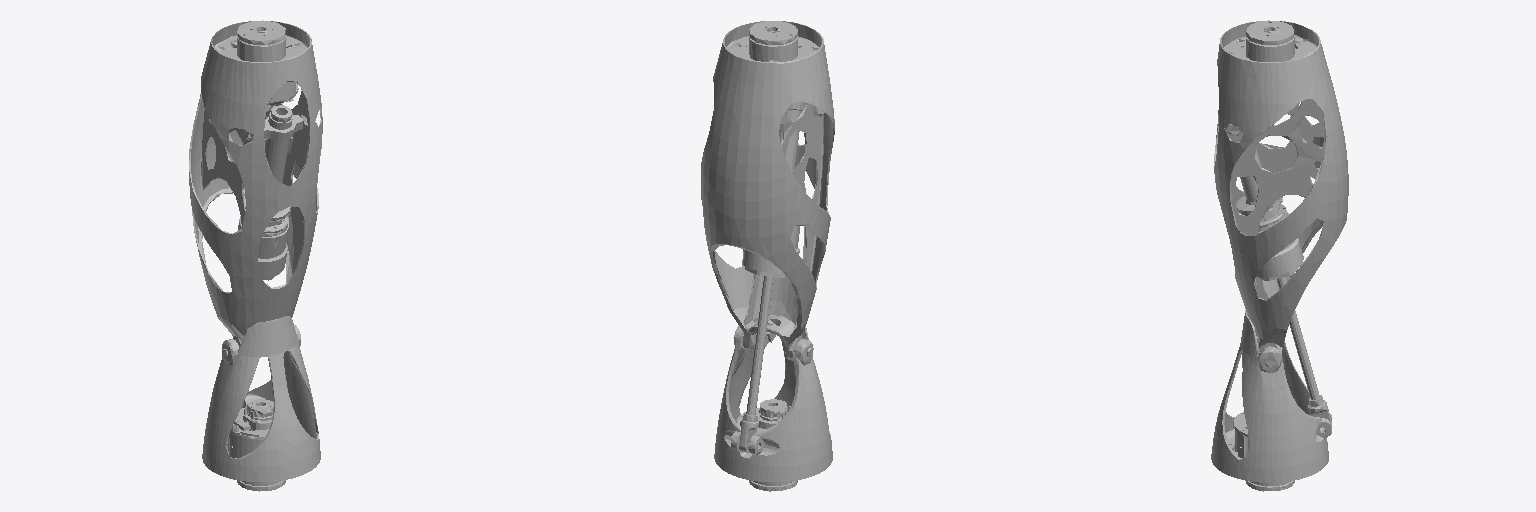
robot.urdf — ARElbow:
<robot name="ARElbow">
  <joint name="ARElbow" type="revolute">
    <origin xyz="0.0 0.001 -0.3511" rpy="-3.141592 0.0 -3.141592"/>
    <axis xyz="1.0 0.0 0.0"/>
    <parent link="ARShoulder3_Link"/>
    <child link="ARElbow_Link"/>
    <limit effort="400.0" lower="-1.832" upper="0.0" velocity="3.1415926"/>
  </joint>
  <joint name="ARElbowAct" type="prismatic">
    <origin xyz="0.0 0.0 0.29542" rpy="0.0 0.0 -3.141592"/>
    <axis xyz="0.0 0.0 1.0"/>
    <parent link="ARElbowB11_Link"/>
    <child link="ARElbowAct_Link"/>
    <limit effort="400.0" lower="-1.57" upper="1.57" velocity="3.1415926"/>
  </joint>
  <link name="ARElbowAct_Link">
    <inertial>
      <origin xyz="-6e-06 0.0 -0.085859" rpy="0.0 0.0 0.0"/>
      <mass value="0.05465199999999999"/>
      <inertia ixx="0.00010606969013566325" ixy="-3.794811884488628e-13" ixz="3.6268360281805788e-09" iyy="0.0001059746901362923" iyz="4.232588795943544e-14" izz="1.0000000136920807e-05"/>
    </inertial>
    <visual name="ARElbowAct_Link_Visual">
      <origin xyz="0.0 0.0 0.0" rpy="0.0 0.0 3.141593"/>
      <geometry>
        <mesh filename="../meshes/lfs-stl/ARElbow_Act_Link.stl" scale="1.0 1.0 1.0"/>
      </geometry>
      <material name="">
        <color rgba="0.75294 0.75294 0.75294 1.0"/>
      </material>
    </visual>
    <collision name="ARElbowAct_Link_Collision">
      <origin xyz="0.0 0.0 0.0" rpy="0.0 0.0 0.0"/>
      <geometry>
        <mesh filename="../meshes/lfs-stl/ARElbow_Act_Link_convexhull.stl" scale="1.0 1.0 1.0"/>
      </geometry>
    </collision>
  </link>
  <joint name="ARElbowB11" type="revolute">
    <origin xyz="0.0 -0.029 -0.1391" rpy="2.888403 0.0 -3.141592"/>
    <axis xyz="1.0 0.0 0.0"/>
    <parent link="ARShoulder3_Link"/>
    <child link="ARElbowB11_Link"/>
    <limit effort="400.0" lower="-1.57" upper="1.57" velocity="3.1415926"/>
  </joint>
  <link name="ARElbowB11_Link">
    <inertial>
      <origin xyz="-2.6e-05 1.9e-05 0.10704" rpy="0.0 0.0 0.0"/>
      <mass value="0.32695999999999986"/>
      <inertia ixx="0.00011101999998112811" ixy="1.0984488097443103e-08" ixz="6.629144855259e-08" iyy="0.00011251000000736784" iyz="1.406700231845442e-07" izz="7.073300001150397e-05"/>
    </inertial>
    <visual name="ARElbowB11_Link_Visual">
      <origin xyz="0.0 0.0 0.0" rpy="0.0 0.0 0.0"/>
      <geometry>
        <mesh filename="../meshes/lfs-stl/ARElbow_B11_Link.stl" scale="1.0 1.0 1.0"/>
      </geometry>
      <material name="">
        <color rgba="0.75294 0.75294 0.75294 1.0"/>
      </material>
    </visual>
    <collision name="ARElbowB11_Link_Collision">
      <origin xyz="0.0 0.0 0.0" rpy="0.0 0.0 0.0"/>
      <geometry>
        <mesh filename="../meshes/lfs-stl/ARElbow_B11_Link_convexhull.stl" scale="1.0 1.0 1.0"/>
      </geometry>
    </collision>
  </link>
  <link name="ARElbow_Link">
    <inertial>
      <origin xyz="7e-05 0.001127 0.080286" rpy="0.0 0.0 0.0"/>
      <mass value="0.6357799999999997"/>
      <inertia ixx="0.0005099900001544764" ixy="-2.2297207206594354e-07" ixz="-4.0468474586715554e-07" iyy="0.0005163300270204655" iyz="-4.423298448630883e-05" izz="0.00046536997282505774"/>
    </inertial>
    <visual name="ARElbow_Link_Visual">
      <origin xyz="0.0 -0.0 0.0" rpy="0.0 0.0 3.141593"/>
      <geometry>
        <mesh filename="../meshes/lfs-stl/ARElbow_Link.stl" scale="1.0 1.0 1.0"/>
      </geometry>
      <material name="">
        <color rgba="0.75294 0.75294 0.75294 1.0"/>
      </material>
    </visual>
    <collision name="ARElbow_Link_Collision">
      <origin xyz="0.0 0.0 0.0" rpy="0.0 0.0 0.0"/>
      <geometry>
        <mesh filename="../meshes/lfs-stl/ARElbow_Link_convexhull.stl" scale="1.0 1.0 1.0"/>
      </geometry>
    </collision>
  </link>
  <link name="ARShoulder3_Link">
    <inertial>
      <origin xyz="-3.3e-05 0.003369 -0.14648" rpy="0.0 0.0 0.0"/>
      <mass value="0.8525751706215601"/>
      <inertia ixx="0.0028013000003190894" ixy="5.193714519100651e-07" ixz="7.258930202151745e-07" iyy="0.002740099961802801" iyz="-5.467267704269619e-05" izz="0.000786290037878108"/>
    </inertial>
    <visual name="ARShoulder3_Link_Visual">
      <origin xyz="0.0 0.0 0.0" rpy="3.141593 0.0 0.0"/>
      <geometry>
        <mesh filename="../meshes/lfs-stl/ARShoulder3_Link.stl" scale="1.0 1.0 1.0"/>
      </geometry>
      <material name="">
        <color rgba="0.75294 0.75294 0.75294 1.0"/>
      </material>
    </visual>
    <collision name="ARShoulder3_Link_Collision">
      <origin xyz="0.0 0.0 0.0" rpy="0.0 0.0 0.0"/>
      <geometry>
        <mesh filename="../meshes/lfs-stl/ARShoulder3_Link_convexhull.stl" scale="1.0 1.0 1.0"/>
      </geometry>
    </collision>
  </link>
</robot>

--- Render facts (derived) ---
The picture shows the robot from 3 angles, left to right: view 1: azimuth 30°, elevation 25°; view 2: azimuth 150°, elevation 25°; view 3: azimuth 270°, elevation 25°; orthographic projection.
Model ARElbow with 4 links and 3 joints (2 revolute, 1 prismatic), rooted at ARShoulder3_Link, posed all joints at 0.
Links seen in each view (by area): view 1: ARShoulder3_Link, ARElbow_Link, ARElbowB11_Link; view 2: ARShoulder3_Link, ARElbow_Link, ARElbowAct_Link, ARElbowB11_Link; view 3: ARShoulder3_Link, ARElbow_Link, ARElbowB11_Link, ARElbowAct_Link.
Link boxes in pixels (x1=…): ARShoulder3_Link: x1=189, y1=20, x2=322, y2=357; ARElbow_Link: x1=202, y1=316, x2=320, y2=491; ARElbowB11_Link: x1=238, y1=105, x2=303, y2=280; ARShoulder3_Link: x1=701, y1=21, x2=834, y2=360; ARElbow_Link: x1=714, y1=324, x2=832, y2=491; ARElbowAct_Link: x1=739, y1=276, x2=772, y2=452; ARElbowB11_Link: x1=743, y1=102, x2=807, y2=277; ARShoulder3_Link: x1=1214, y1=20, x2=1348, y2=367; ARElbow_Link: x1=1211, y1=310, x2=1331, y2=491; ARElbowB11_Link: x1=1218, y1=112, x2=1303, y2=280; ARElbowAct_Link: x1=1277, y1=277, x2=1331, y2=429.
Size in the robot's own frame: 0.1117 by 0.1152 by 0.419 metres.
4 mesh visuals loaded from 4 distinct referenced files (4 binary STL).